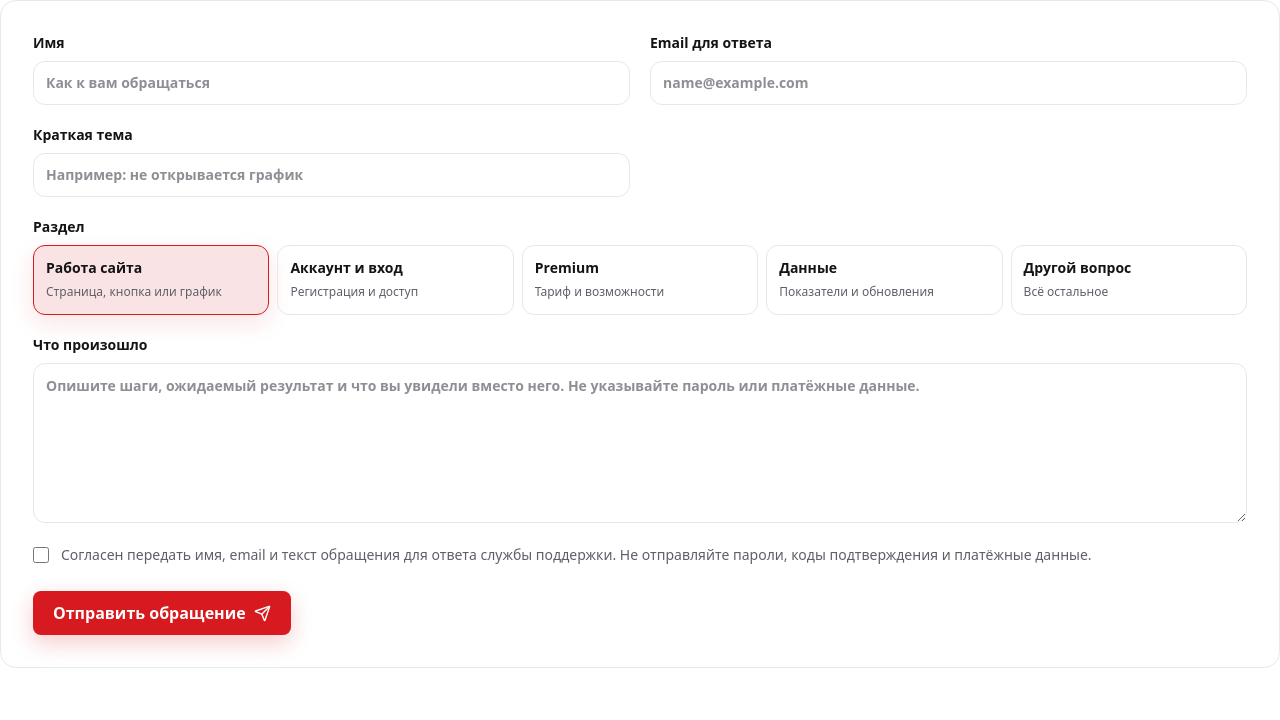
Test: analytics components › submits a support request through the on-site form
Type "Иван" into the field labelled "Имя" at (332, 83), box [33,61,630,105]
Type "ivan@example.com" into the field labelled "Email для ответа" at (948, 83), box [650,61,1247,105]
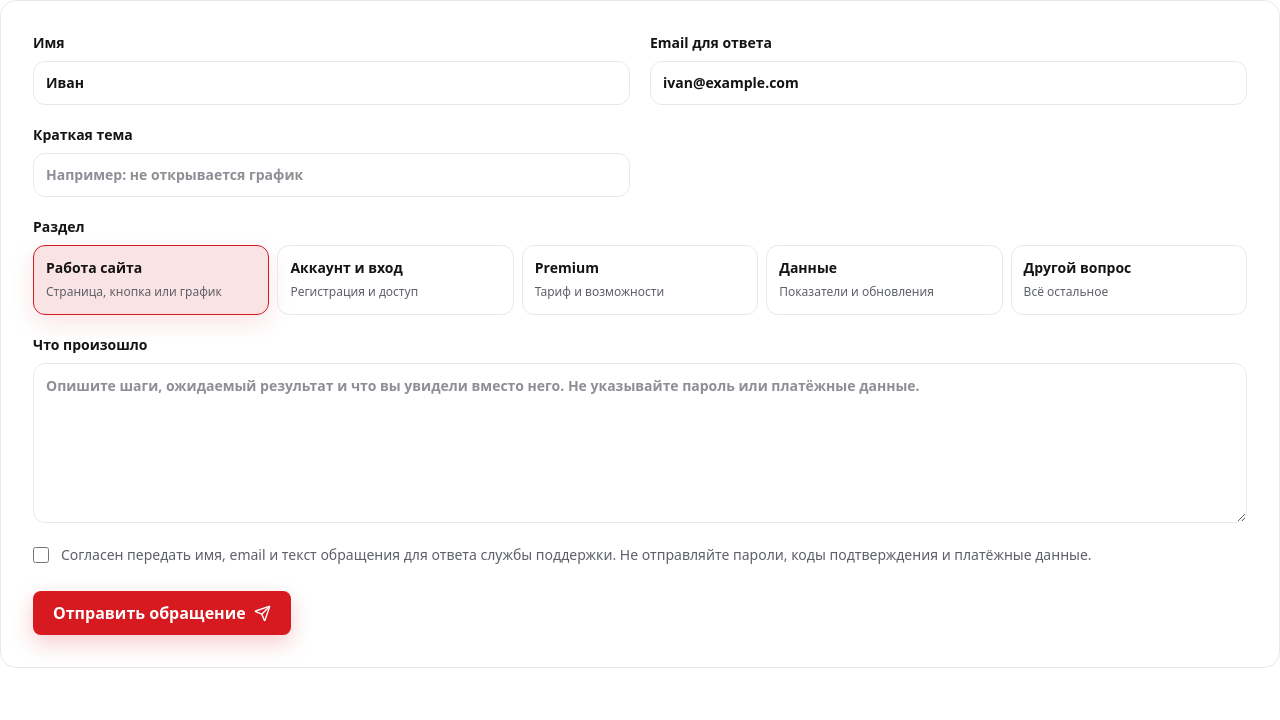
Click the radio button labelled "Аккаунт и вход Регистрация и доступ" at (396, 280), box [277,245,514,315]
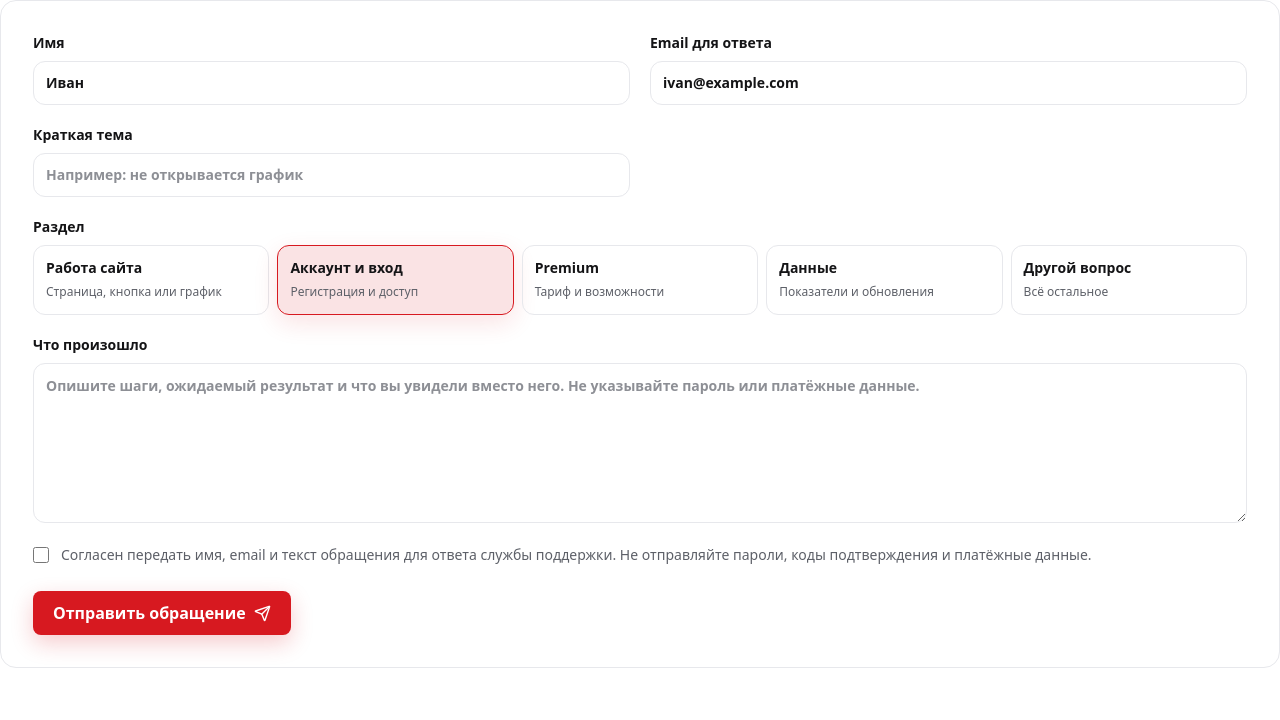
Type "Не могу войти" into the field labelled "Краткая тема" at (332, 175), box [33,153,630,197]
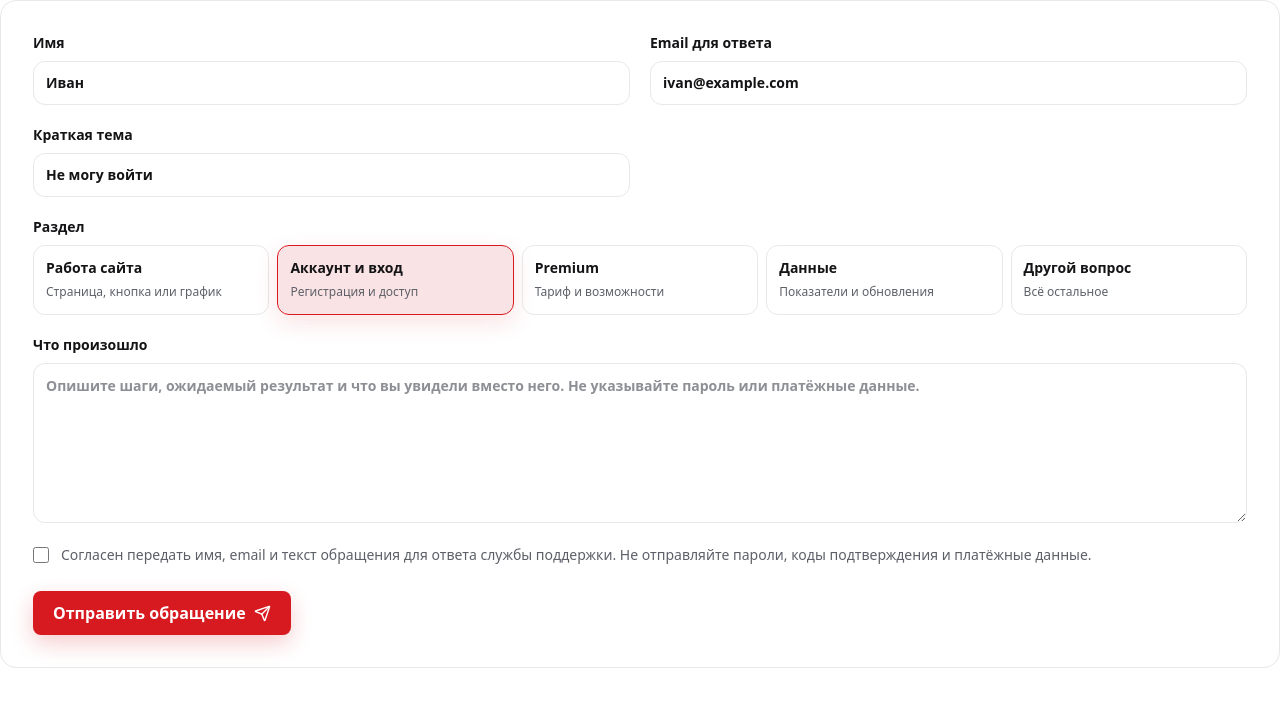
Replace the text in the text box labelled "Что произошло" with "После ввода данных страница входа не открывает личный кабинет." at (640, 443), box [33,363,1247,523]
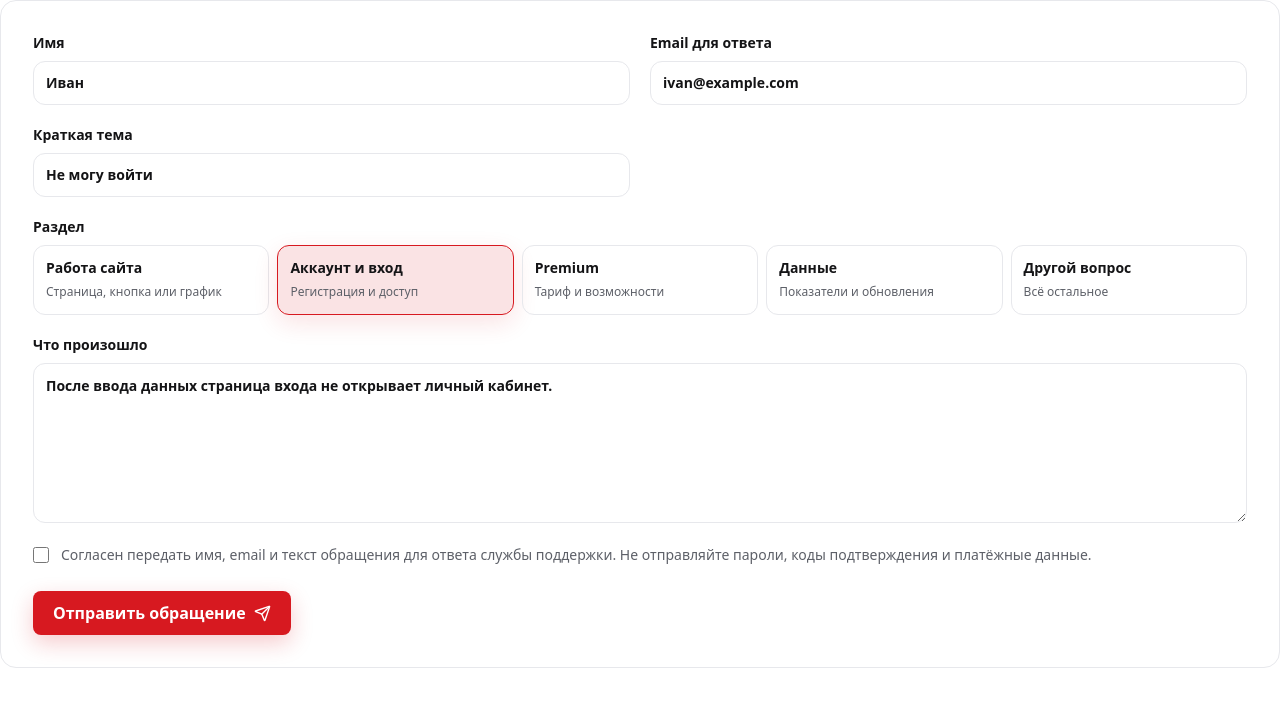
Click the checkbox at (41, 555), box [33,547,49,563]
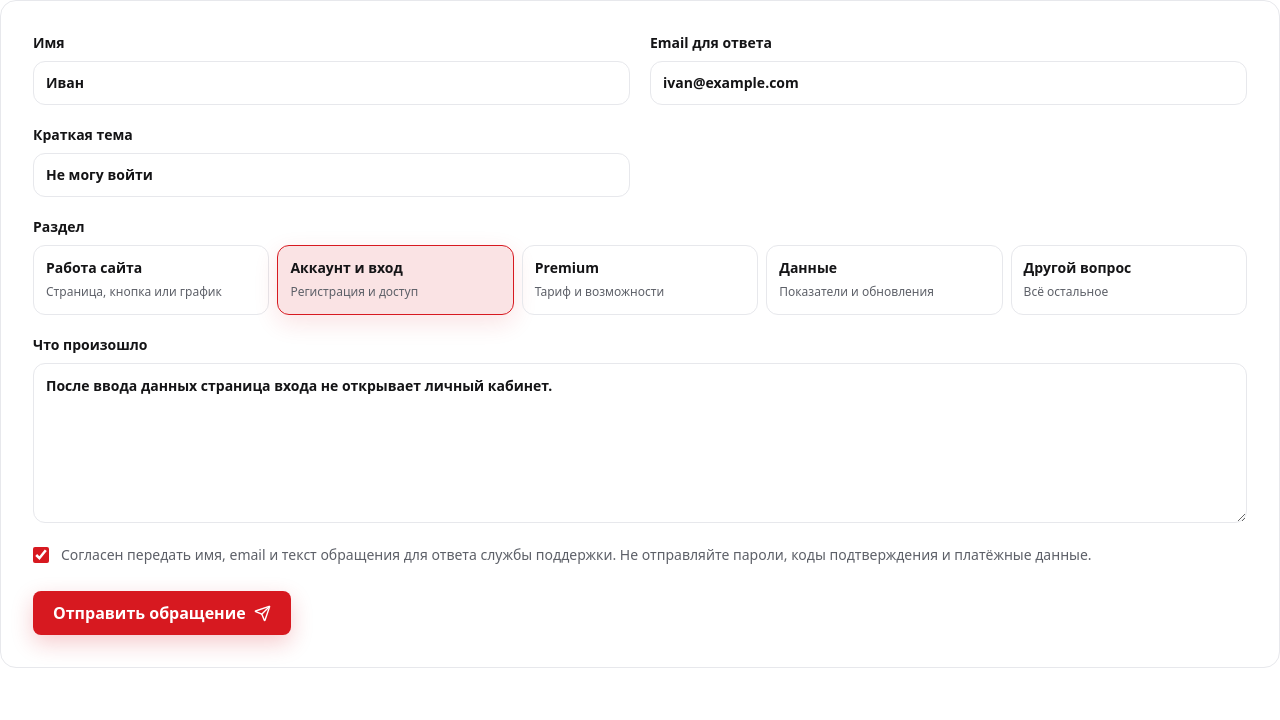
Click the button "Отправить обращение" at (162, 613), box [33,591,291,635]
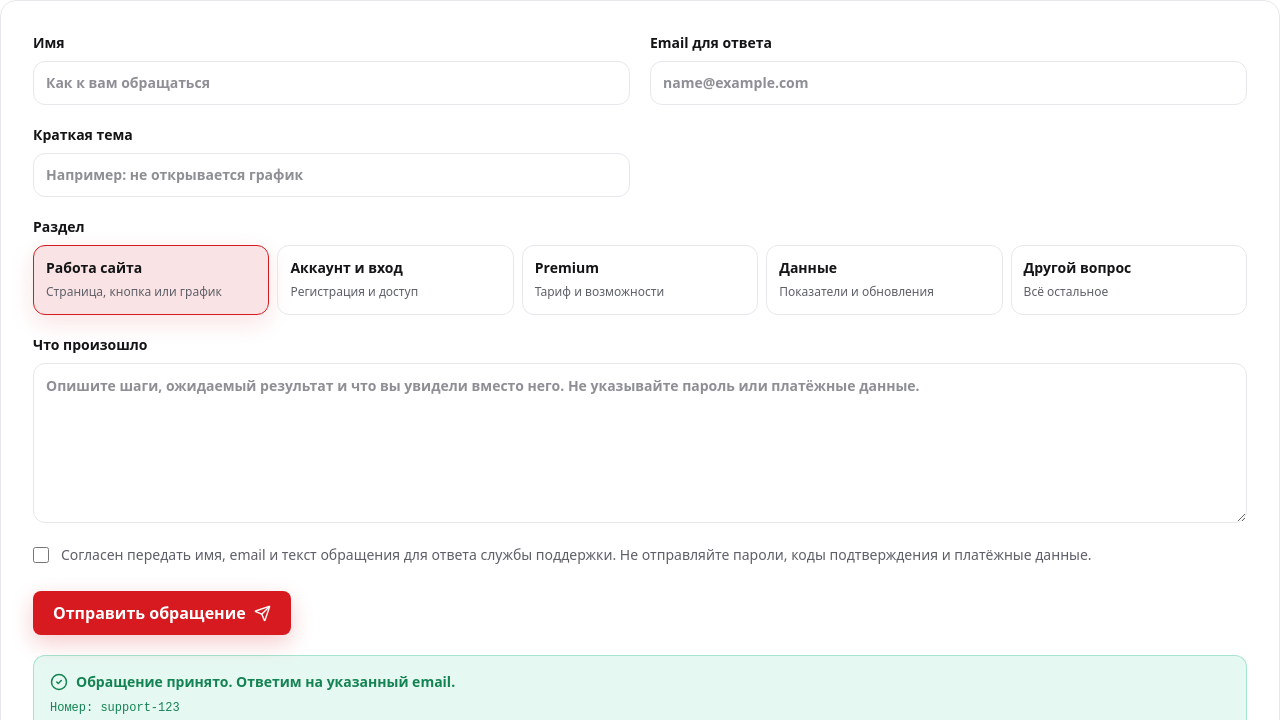
Now the message shows "Обращение принято", box [76,672,455,691]
Now the text "Номер: support-123" is shown, box [50,701,180,715]
